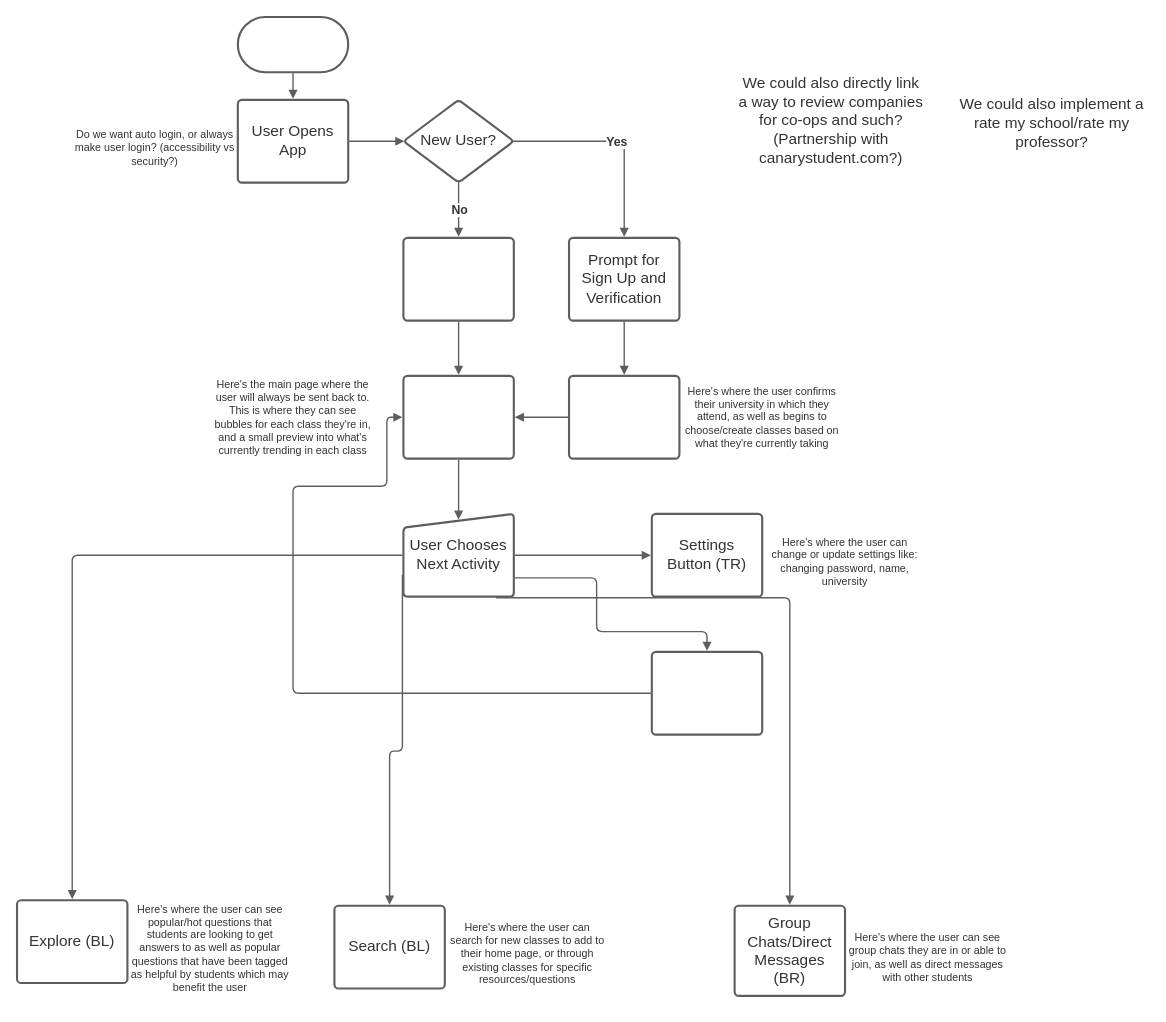
Some shapes in this 1166 by 1022 pixel diagram are drawn without their labels. Each missing label, with the box of its shape:
Home Button (BR): (650, 650, 763, 735)
Load Getting Started Page: (568, 374, 680, 459)
Load Home Page: (402, 374, 514, 459)
Login: (402, 236, 514, 321)
Start: (236, 16, 349, 73)
